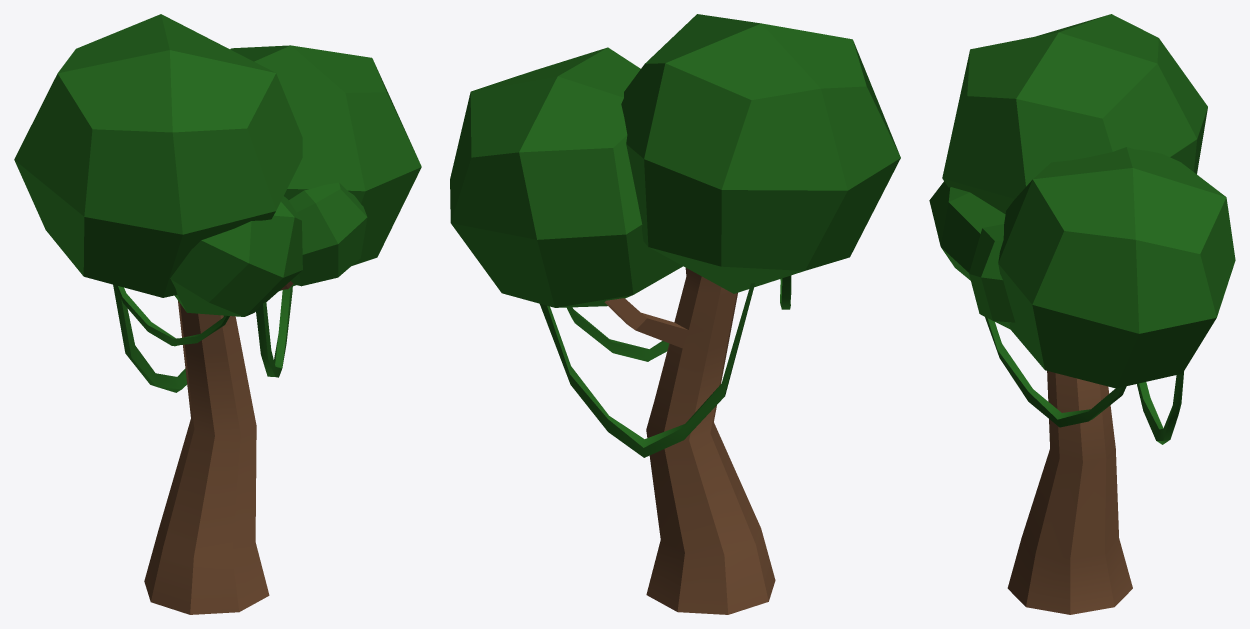
Rendered from TreeLarge.fbx.
3 views of the same model, side by side, from view 1: azimuth 30°, elevation 25°; view 2: azimuth 150°, elevation 25°; view 3: azimuth 270°, elevation 25° (orthographic). The views are drawn at different scales.
Visible parts, largest first — view 1: TREE_Large; view 2: TREE_Large; view 3: TREE_Large.
Boxes of the visible parts, <box> form: TREE_Large: <box>14,14,421,614</box>; TREE_Large: <box>450,14,900,614</box>; TREE_Large: <box>929,14,1235,614</box>.
Size of the model in its own units: 12.25 by 17.03 by 8.82.
